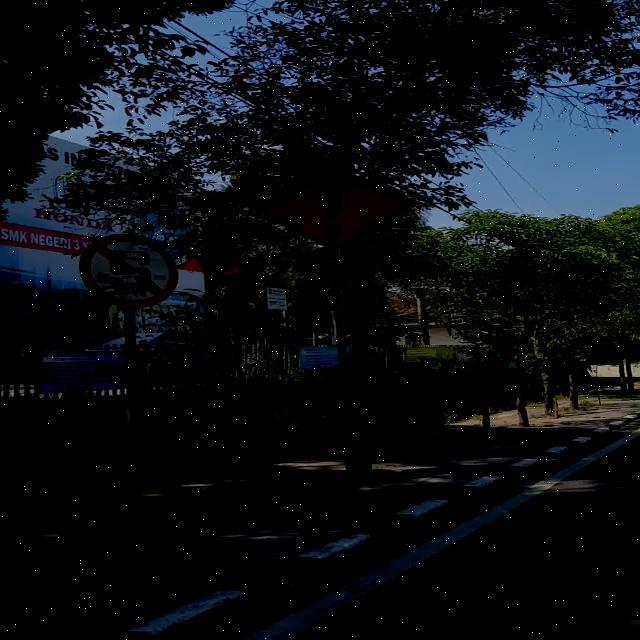Hati-Hati: (255, 165, 408, 251)
